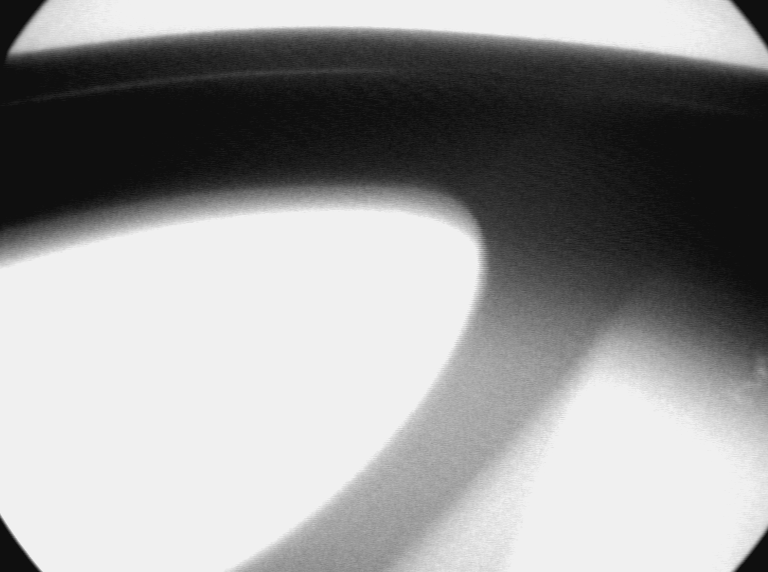defect: (723, 343, 767, 415)
